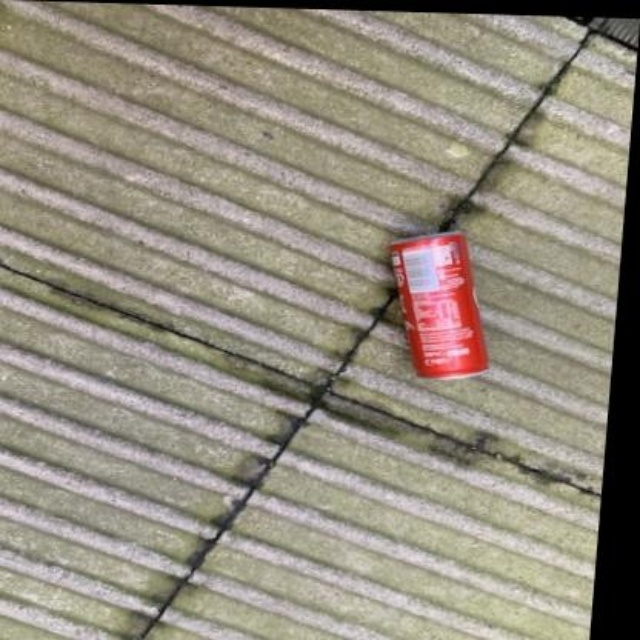trash: (392, 232, 486, 377)
